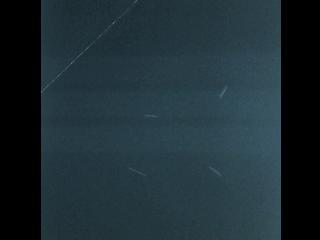crack: (40, 0, 139, 92)
scratch: (122, 160, 152, 183), (211, 80, 235, 105), (203, 161, 229, 182), (138, 105, 161, 125)
